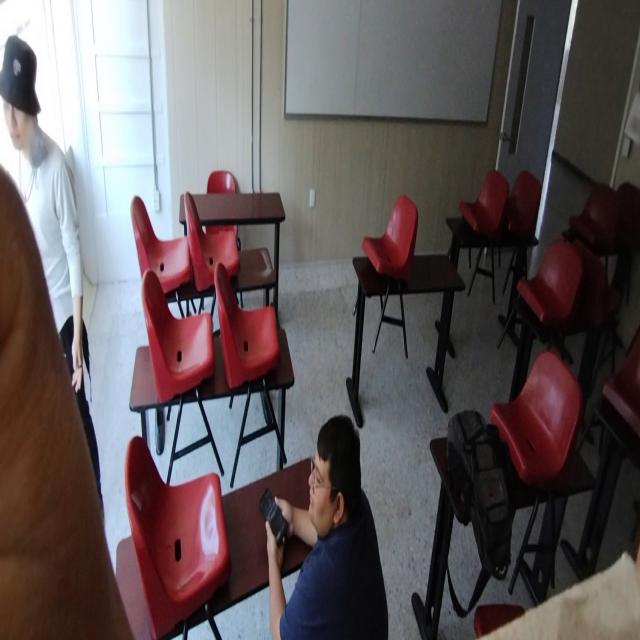adult: (0, 38, 99, 445), (267, 410, 388, 640)
